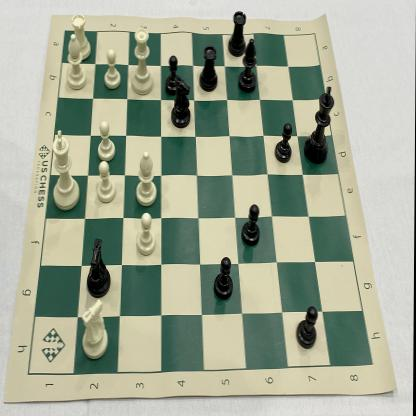black-bishop: (237, 36, 261, 96)
black-king: (302, 80, 337, 168)
black-knight: (83, 236, 118, 299), (168, 75, 197, 133)
black-pawn: (211, 250, 237, 304), (293, 302, 320, 352), (240, 198, 263, 250), (275, 119, 295, 166), (163, 52, 183, 96)
black-rook: (196, 42, 221, 96), (226, 6, 248, 60)
white-bishop: (60, 33, 91, 93), (132, 146, 161, 208)
white-king: (49, 127, 84, 213)
white-knight: (79, 295, 111, 364)
white-pawn: (92, 158, 121, 206), (133, 211, 159, 264), (102, 44, 124, 92), (94, 119, 118, 162)
white-queen: (127, 24, 158, 100)
white-rook: (67, 12, 95, 68)
